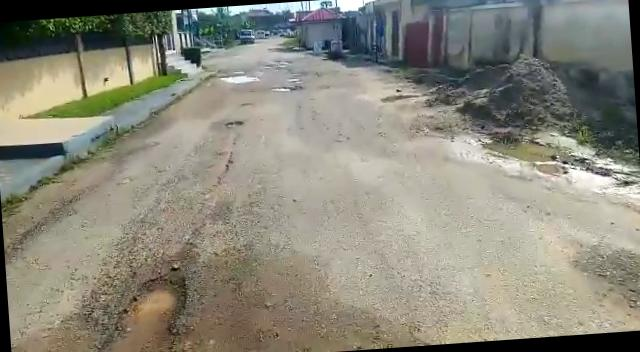pothole: (74, 273, 192, 352), (217, 72, 260, 85), (271, 84, 298, 92)
